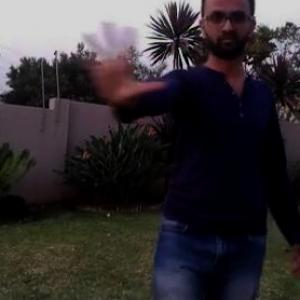follow_hand: (68, 17, 168, 108)
